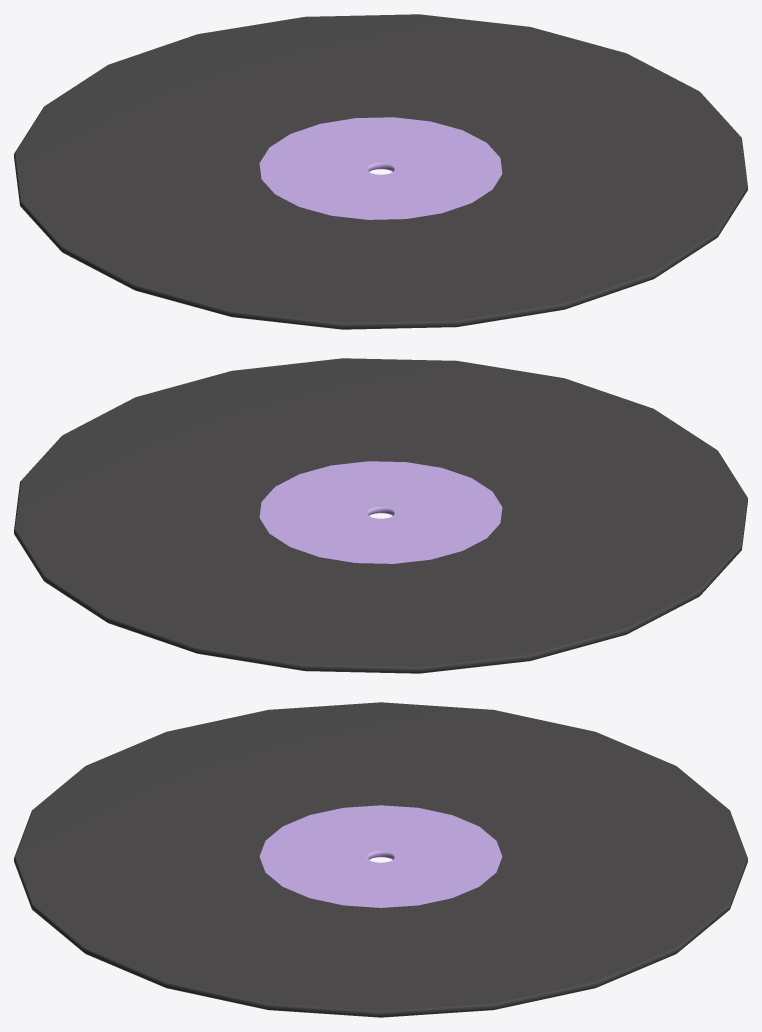
File: Vinyl_2.glb
The picture shows the model from 3 angles, top to bottom: view 1: azimuth 30°, elevation 25°; view 2: azimuth 150°, elevation 25°; view 3: azimuth 270°, elevation 25°; orthographic projection.
Visible parts, largest first — view 1: Vinyl_2; view 2: Vinyl_2; view 3: Vinyl_2.
Part boxes in pixels (x1,y1,x2,y2): Vinyl_2: (14,14,747,329); Vinyl_2: (14,358,747,673); Vinyl_2: (14,702,747,1017).
Bounding box in the file's own units: 0.2573 × 0.00261 × 0.2573.
Materials: 1 (1 with a texture image).
